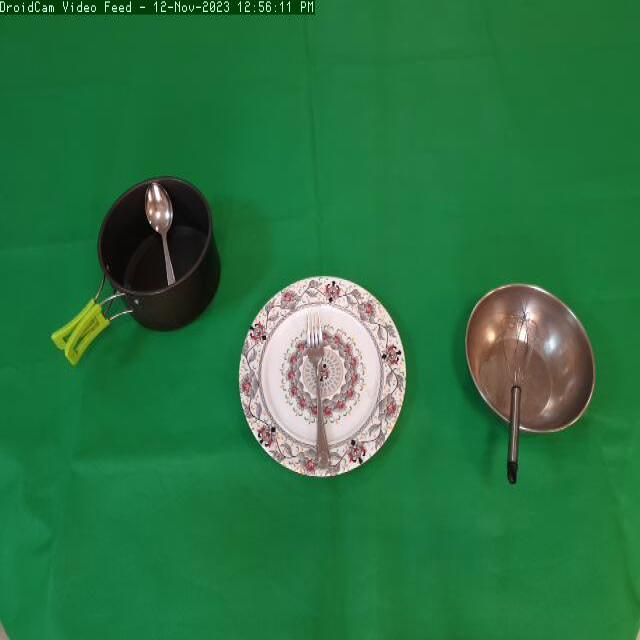bowl: (462, 281, 604, 436)
fork: (300, 308, 336, 473)
plate: (239, 276, 412, 499)
pot: (49, 174, 222, 372)
spoon: (141, 177, 178, 287)
whisk: (501, 299, 541, 485)
